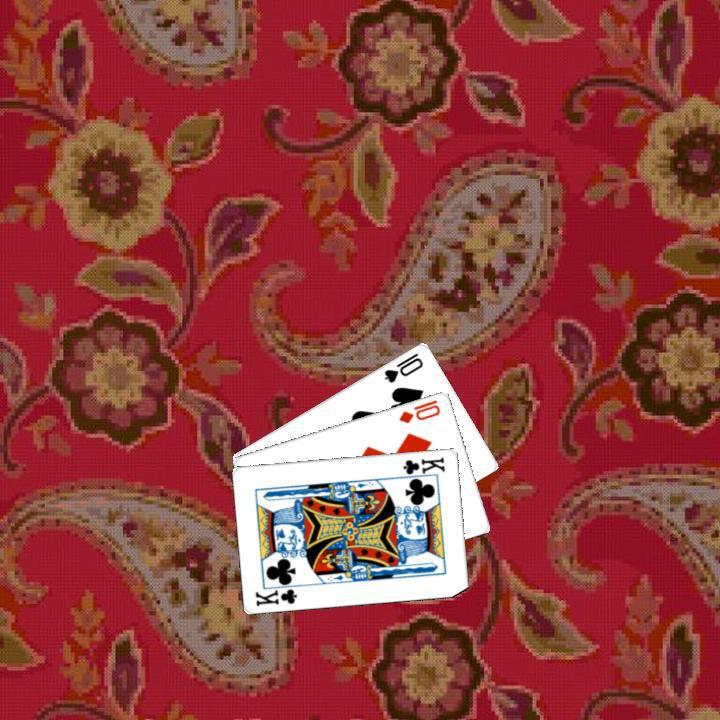10: (380, 348, 425, 385), (395, 395, 442, 425)
K: (251, 579, 303, 608), (396, 453, 447, 481)
